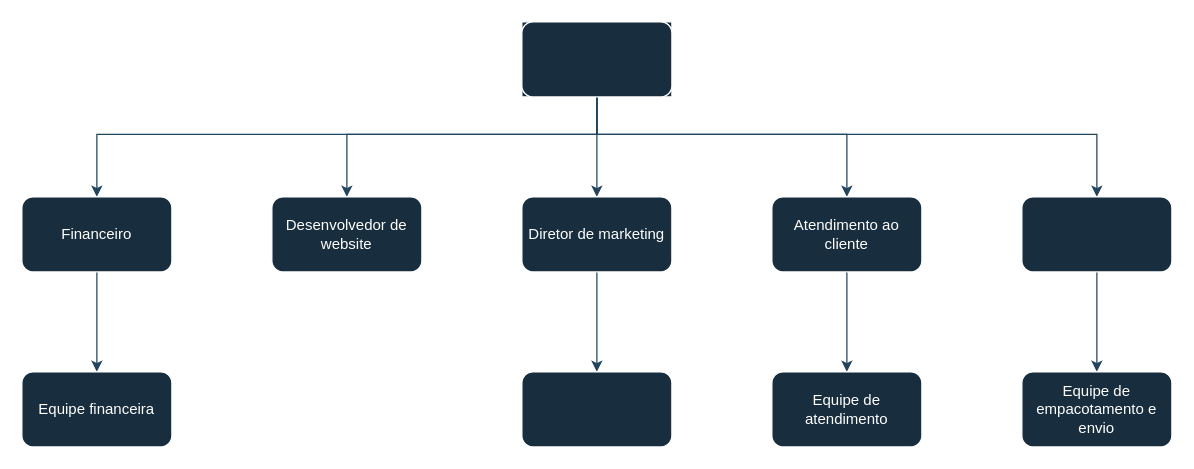
Some shapes in this 1194 by 469 pixel diagram are drawn without their labels. Here are the shapes that lost their labels. From the top down, the box of each, then its label:
(521, 21, 672, 97): CEO
(1021, 196, 1172, 272): Gerente de estoque
(521, 371, 672, 447): Equipe de marketing
